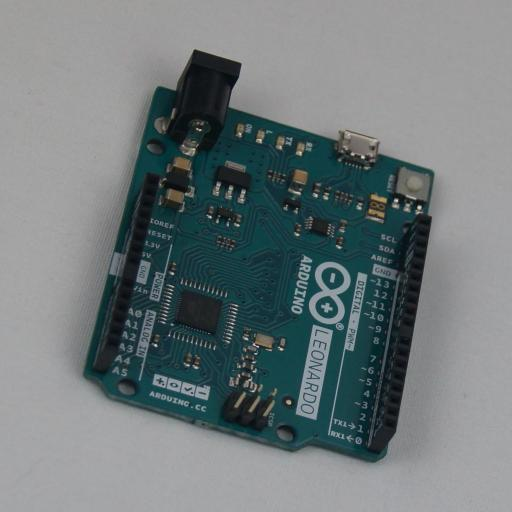Arduino Leonardo: (82, 49, 434, 463)
